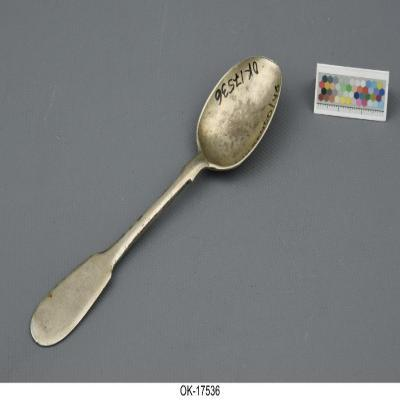dpi: (31, 59, 282, 348)
